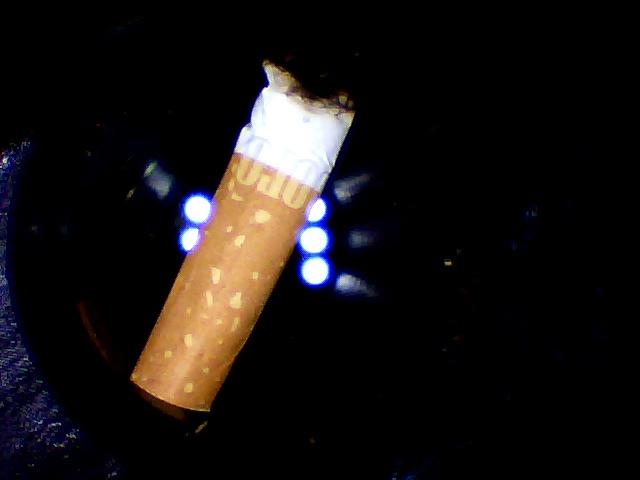megot: (108, 55, 375, 421)
